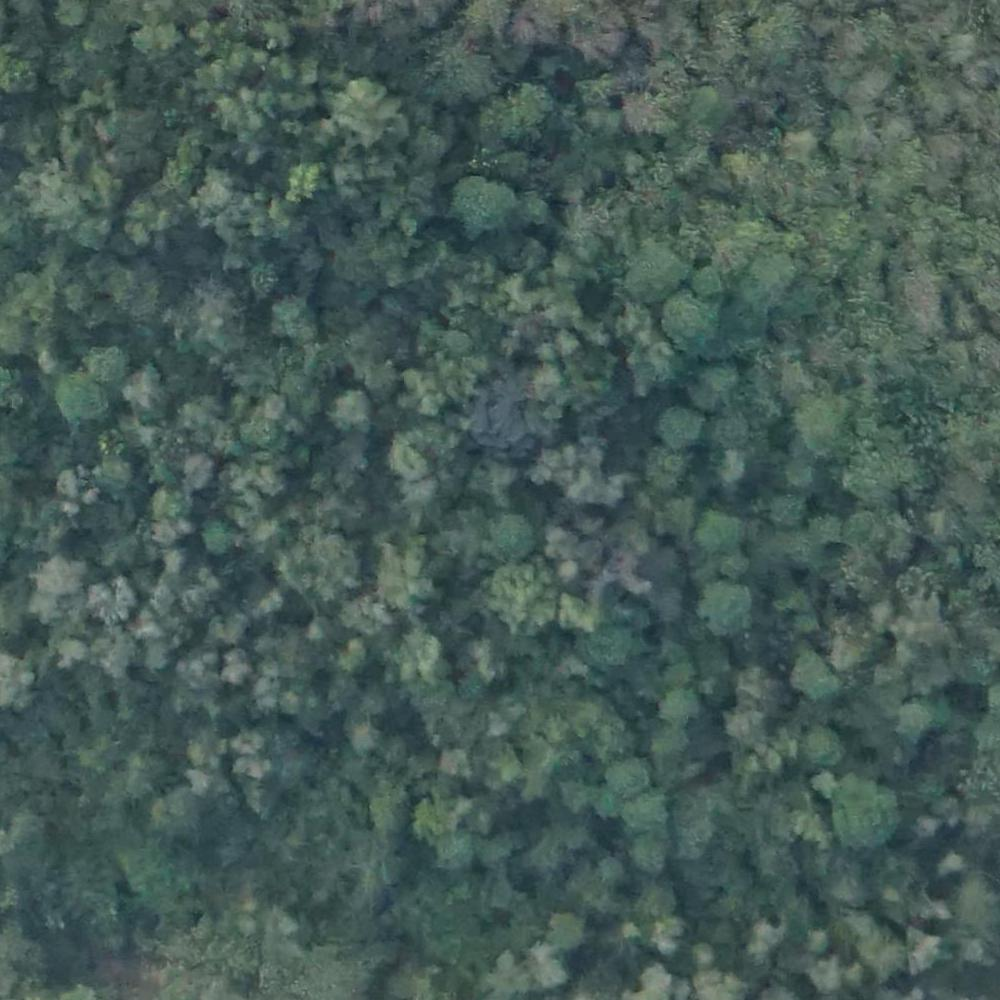tree: (499, 572, 561, 645), (832, 768, 890, 841), (700, 576, 758, 645), (372, 527, 425, 593), (848, 503, 906, 563), (498, 86, 553, 146), (623, 77, 677, 136), (802, 398, 863, 446), (334, 82, 387, 137), (666, 289, 721, 340), (557, 205, 610, 257), (27, 550, 89, 594), (626, 239, 675, 293), (457, 177, 505, 230), (55, 371, 103, 424), (149, 790, 204, 835), (687, 359, 737, 408), (273, 300, 327, 344), (76, 341, 124, 387), (398, 626, 441, 676), (336, 387, 375, 442), (388, 435, 430, 485), (657, 407, 701, 454), (899, 699, 939, 750), (403, 362, 446, 408), (725, 704, 767, 751), (637, 459, 690, 496), (485, 956, 529, 1000), (548, 910, 591, 955), (485, 519, 532, 558), (94, 634, 137, 676), (433, 832, 477, 873), (1, 651, 35, 704), (148, 476, 185, 524), (328, 640, 368, 683), (699, 511, 748, 545), (239, 453, 278, 495), (710, 415, 753, 452), (805, 723, 839, 768), (787, 651, 827, 689), (625, 791, 666, 828), (220, 650, 256, 692), (656, 689, 694, 728), (644, 915, 682, 954), (752, 917, 785, 961), (90, 575, 128, 613), (280, 166, 319, 203), (764, 495, 809, 527), (612, 756, 653, 791), (789, 126, 822, 166), (194, 521, 234, 553), (787, 453, 828, 484), (242, 268, 278, 297), (591, 854, 624, 884), (230, 725, 259, 754), (691, 265, 716, 294), (631, 840, 655, 865)
